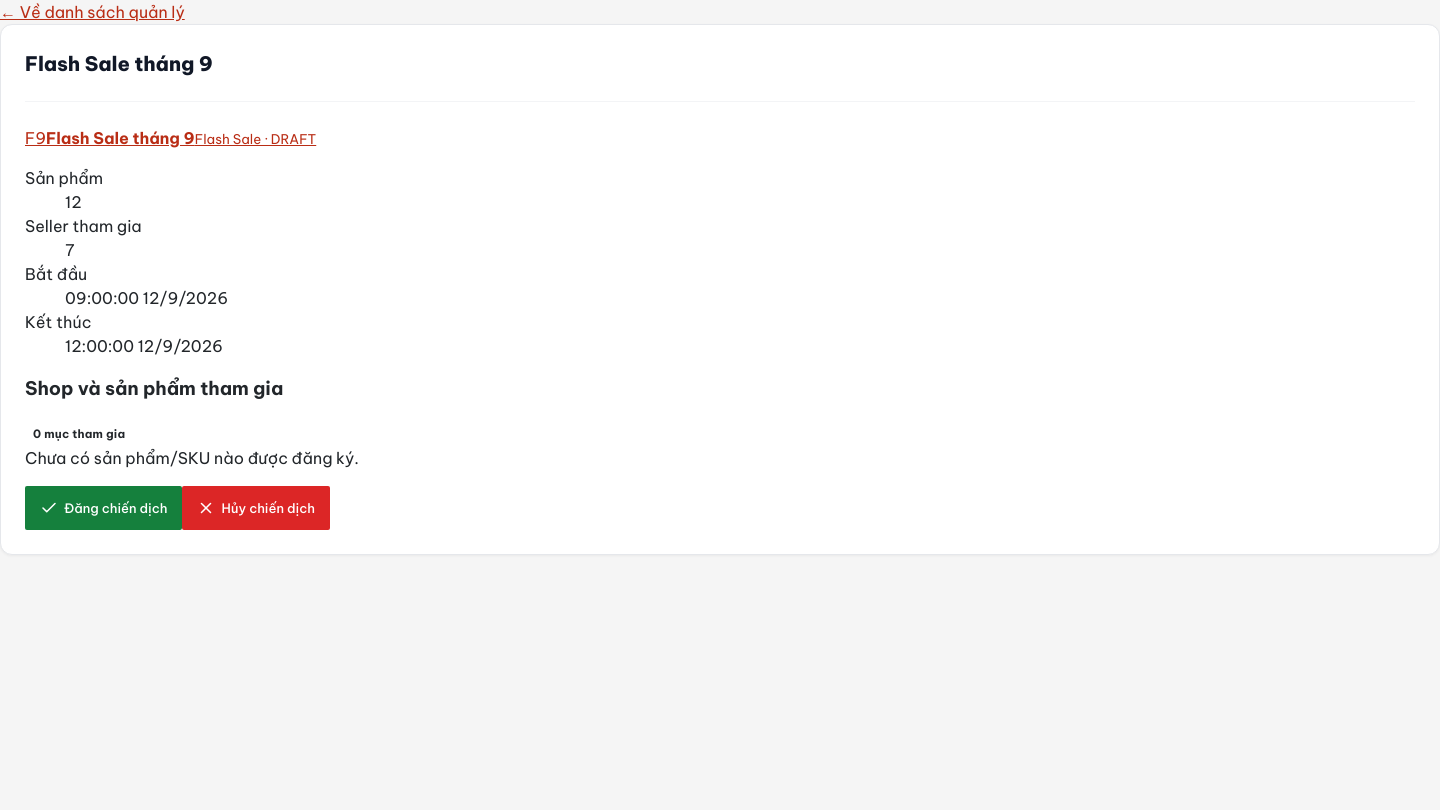
it: Admin campaign detail actions › keeps the publish dialog open when the mutation fails
This screenshot has width=1440, height=810.
Expected: the heading "Flash Sale tháng 9" is shown, [25,49,213,79]
Click the button "Đăng chiến dịch" at (104, 508), box [25,486,182,530]
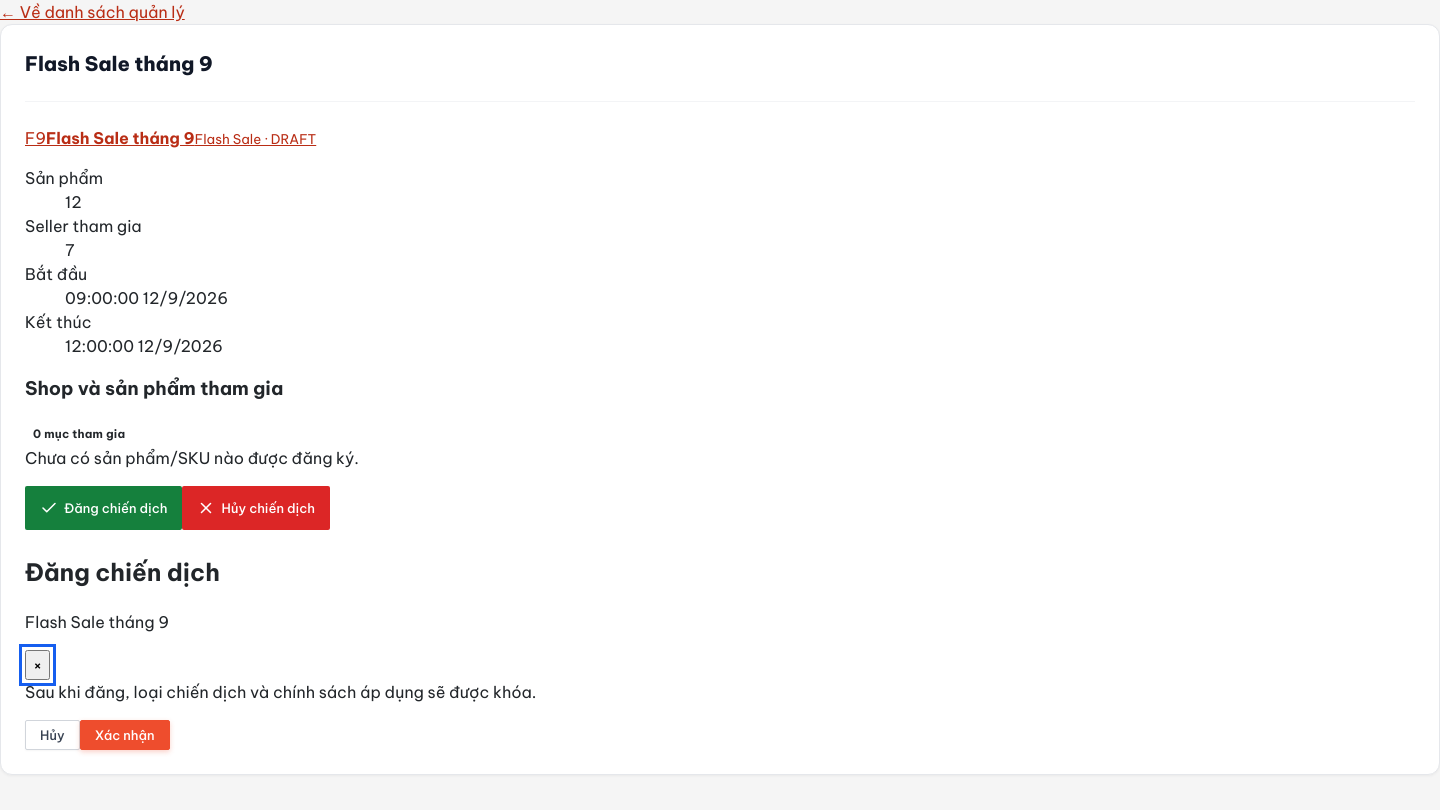
Submit the form, box [25,682,536,750]
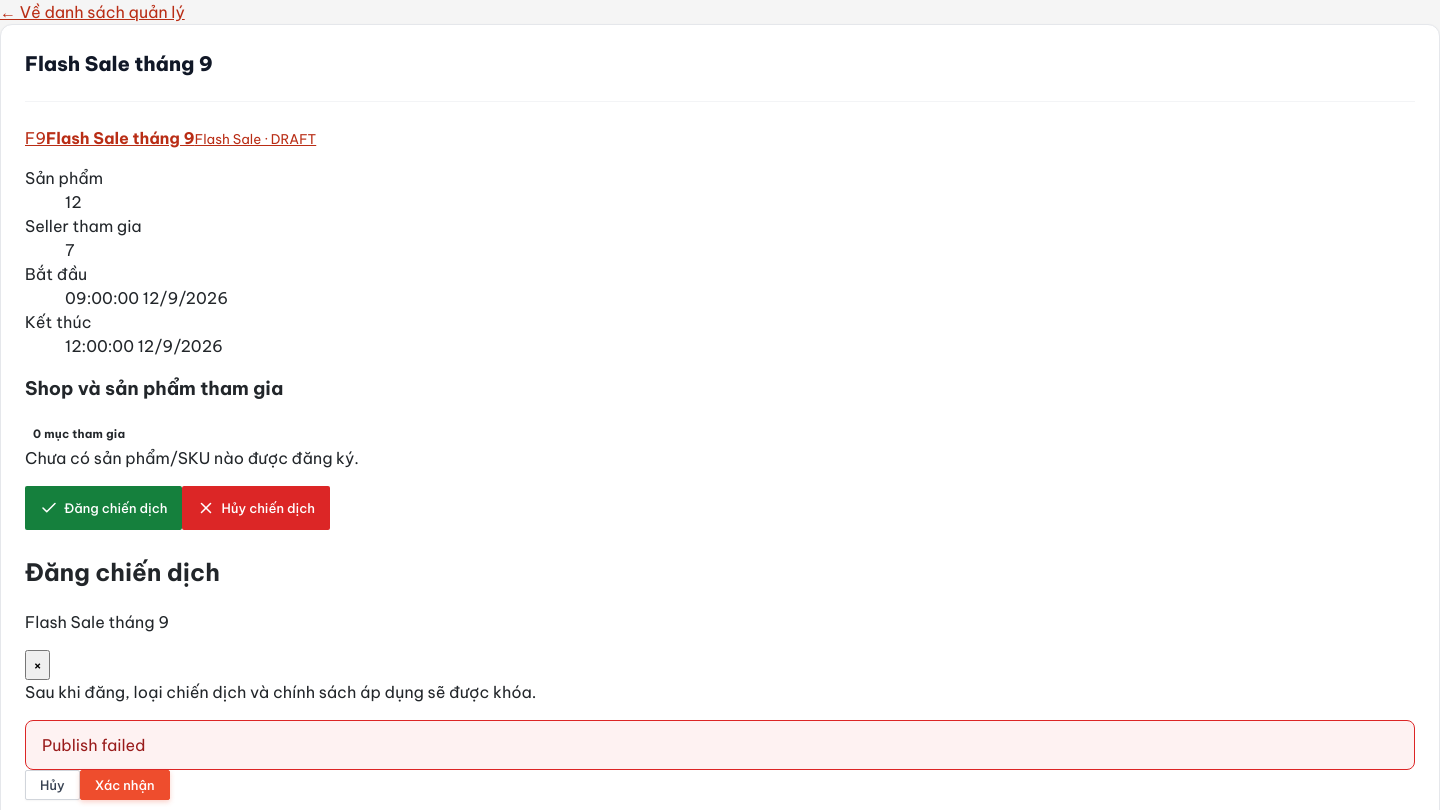
Expected: the dialog is shown, [25,554,1415,800]
Expected: the button "Xác nhận" is enabled, [80,770,170,800]
Expected: the message "Publish failed" is shown, [25,720,1415,770]
